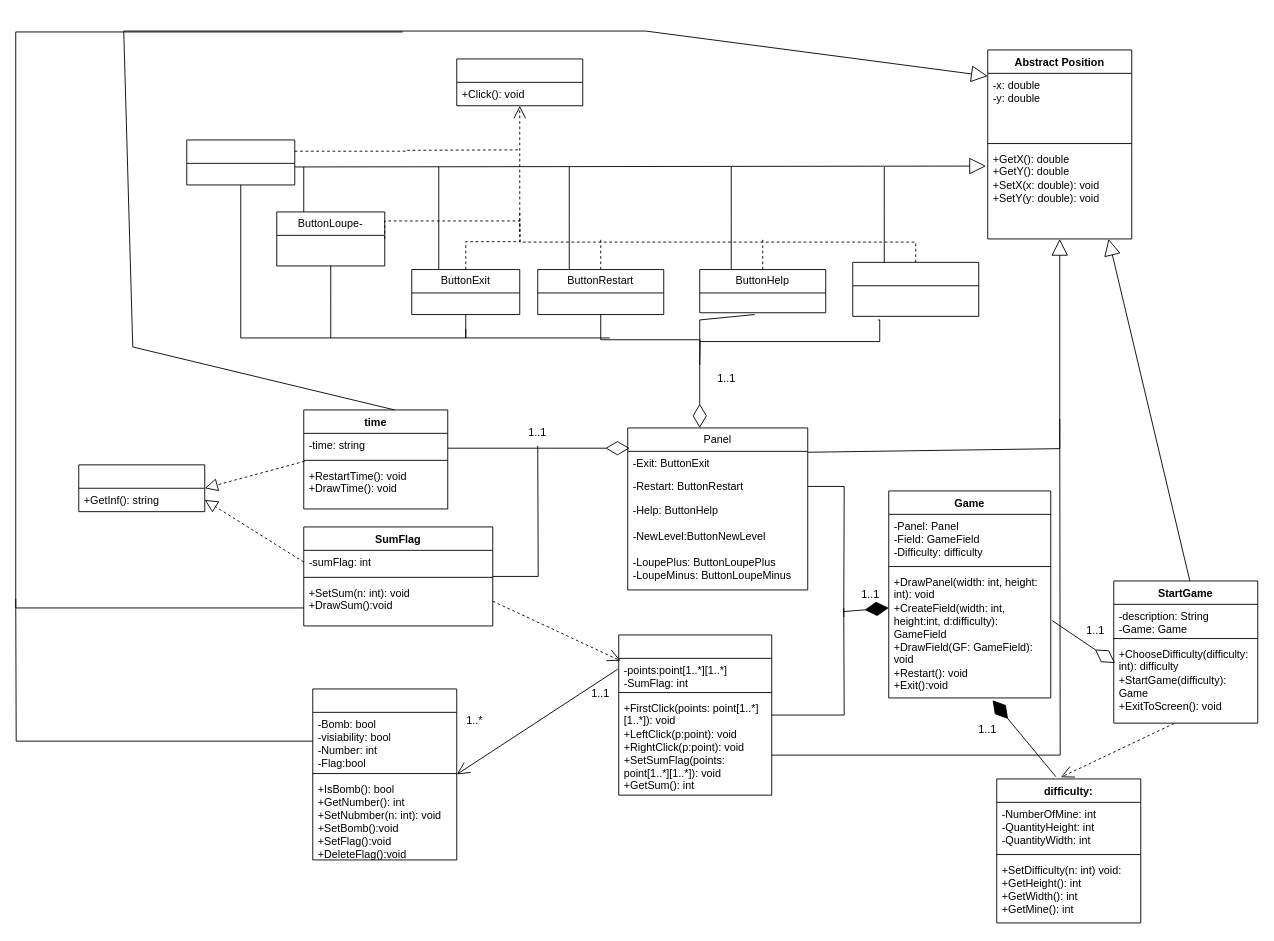
The diagram is 1274 pixels wide and 941 high, and some of its shapes have lost their labels. The shapes that lost their labels are listed below. From the top down, each one's box as (x1, y1, x2, y2) in pixels, then its label:
(456, 58, 583, 106): <<interface>> Button
(186, 139, 295, 185): Button Loupe+
(852, 261, 979, 316): ButtonNewLevel
(78, 464, 205, 512): <<interface>> InfOut
(618, 634, 772, 795): GameField
(312, 688, 457, 860): Point
